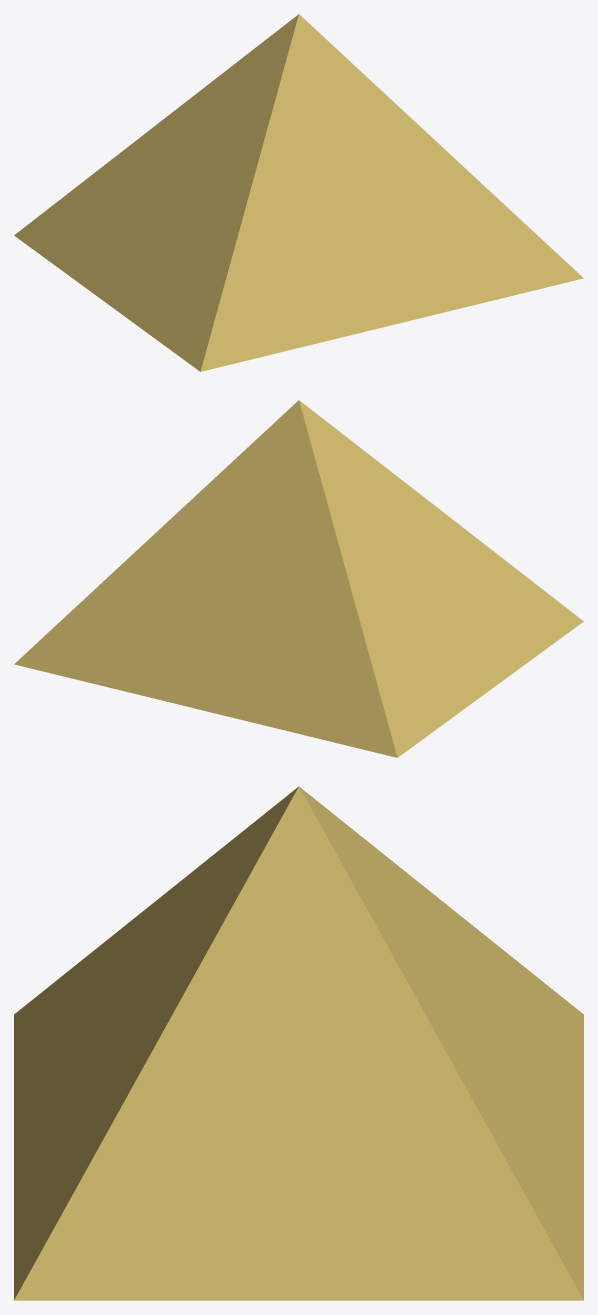
3 views of the same model, one above another, from view 1: azimuth 30°, elevation 25°; view 2: azimuth 150°, elevation 25°; view 3: azimuth 270°, elevation 25° (orthographic). The views are drawn at different scales.
Visible parts, largest first — view 1: Mesh_Mesh_head_geo.001_lambert2SG.001; view 2: Mesh_Mesh_head_geo.001_lambert2SG.001; view 3: Mesh_Mesh_head_geo.001_lambert2SG.001.
Part boxes in pixels (x1=…): Mesh_Mesh_head_geo.001_lambert2SG.001: x1=14, y1=14, x2=583, y2=371; Mesh_Mesh_head_geo.001_lambert2SG.001: x1=14, y1=400, x2=583, y2=757; Mesh_Mesh_head_geo.001_lambert2SG.001: x1=14, y1=786, x2=583, y2=1300.
Bounding box in the file's own units: 76 × 46 × 64.
